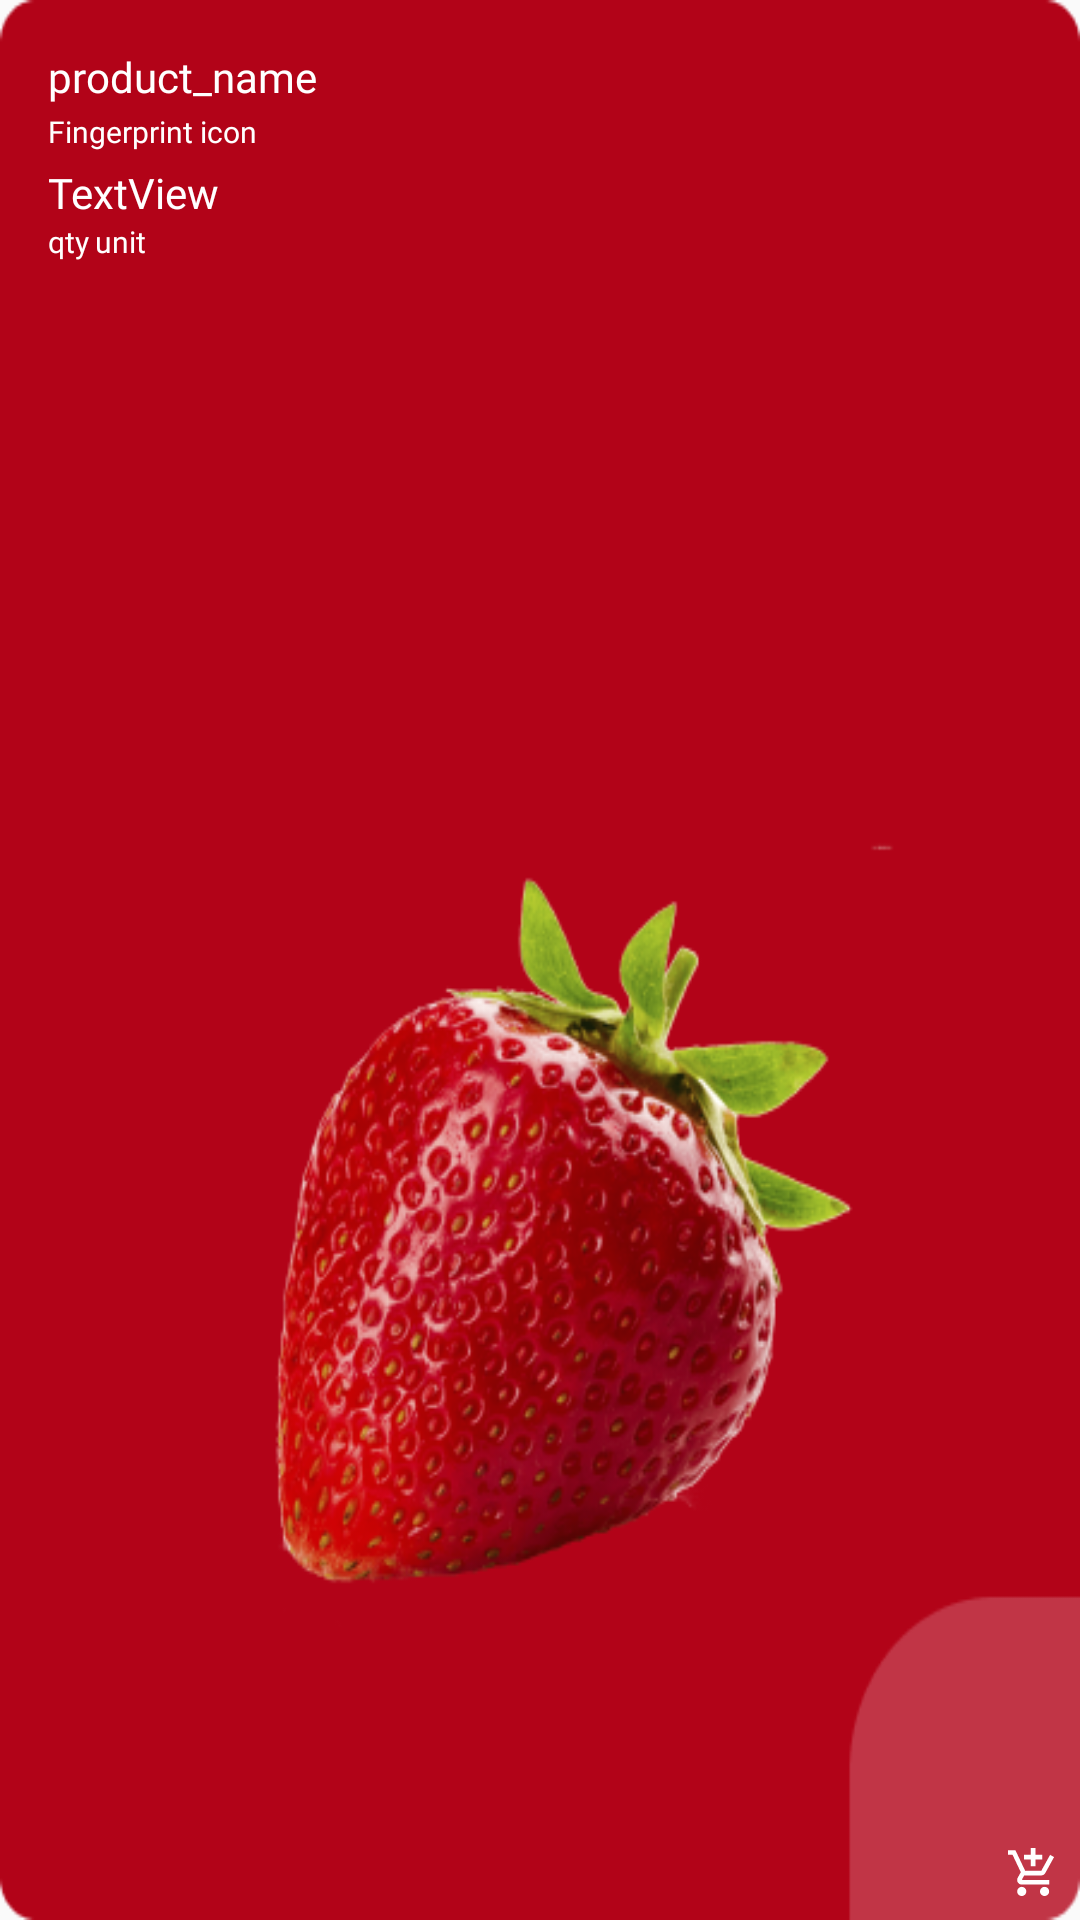

Screen size 1080 x 1920. Icon name, then its center in pixels as [x,y]:
cart: [1031,1872]
